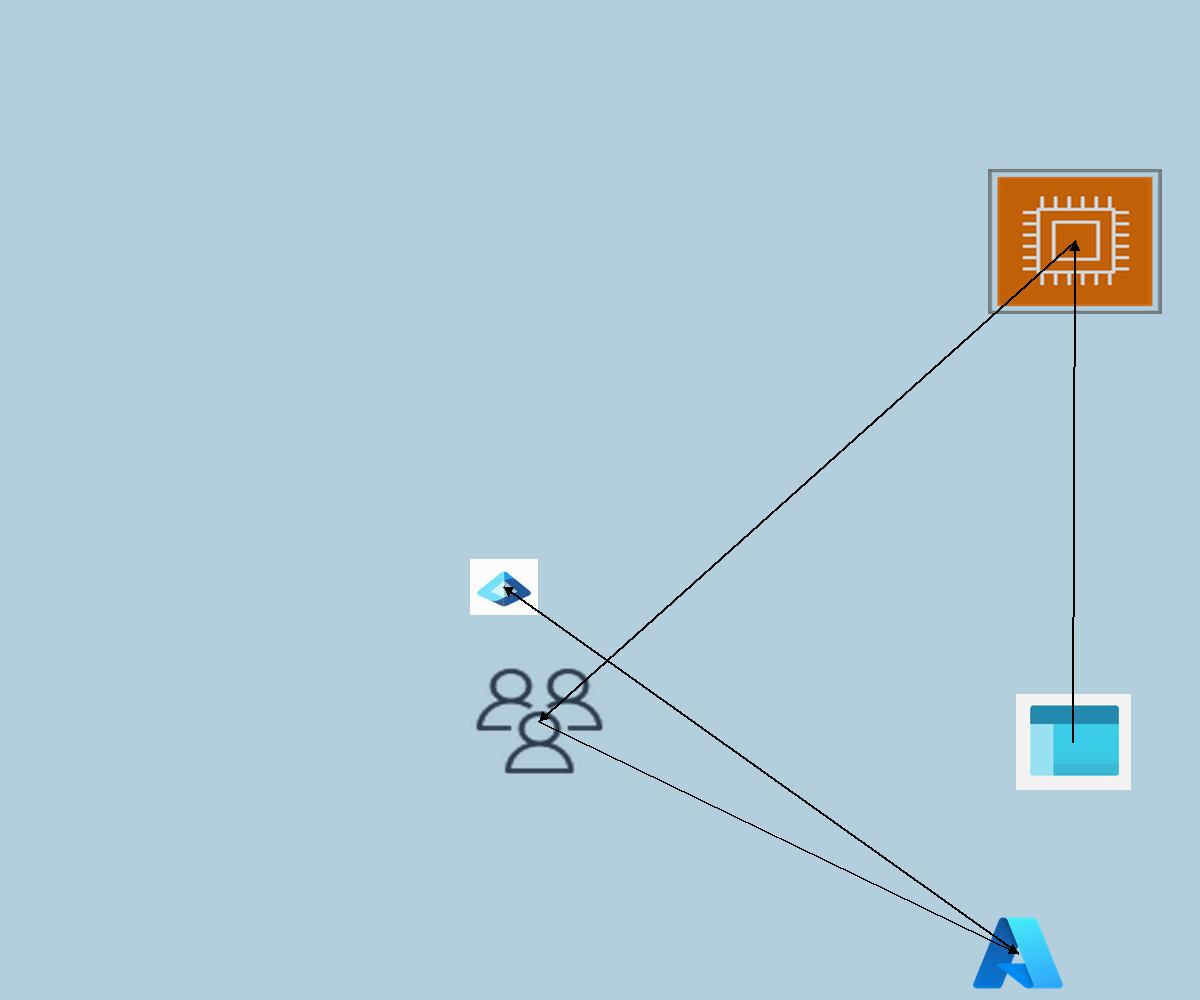AWS-Category_Compute: (988, 169, 1162, 314)
AWS-Res_Users: (471, 664, 608, 778)
Azure_management-portal: (1016, 694, 1131, 790)
Azure_microsoft_entra: (470, 559, 538, 615)
Azure_services: (969, 912, 1067, 994)
